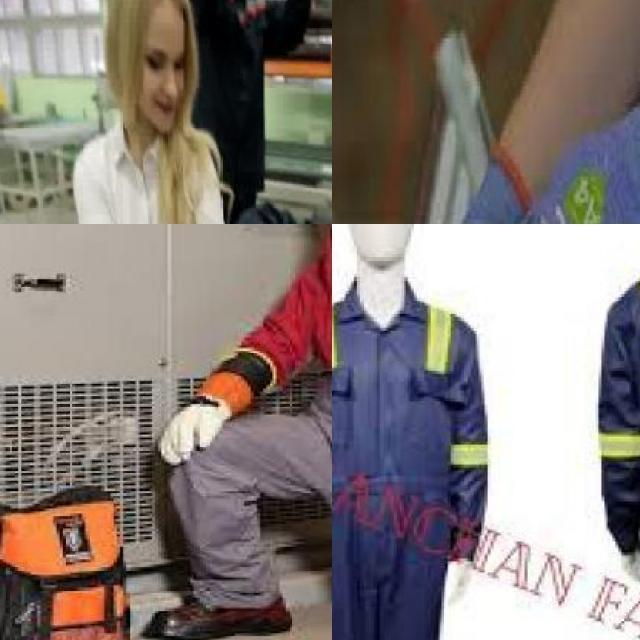apron: (503, 7, 640, 224), (160, 370, 228, 468)
